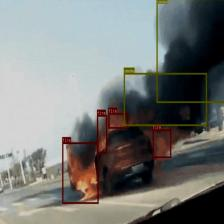fire: (62, 142, 99, 203), (152, 129, 171, 158), (97, 115, 107, 153), (108, 113, 128, 128)
smoke: (156, 0, 224, 102), (124, 72, 206, 125)
